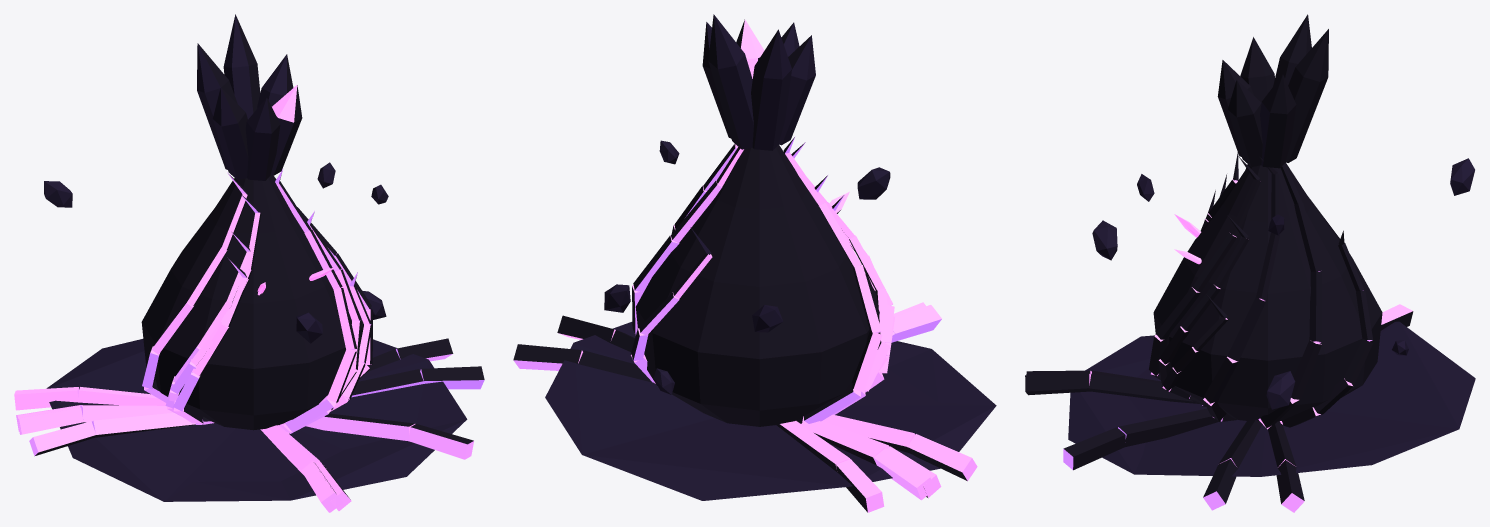
The model's file is fruto-sombra.glb.
The picture shows the model from 3 angles, left to right: view 1: azimuth 30°, elevation 25°; view 2: azimuth 150°, elevation 25°; view 3: azimuth 270°, elevation 25°; orthographic projection. The views are drawn at different scales.
Parts seen in each view (by area): view 1: Fruit_Body; view 2: Fruit_Body; view 3: Fruit_Body.
Part boxes in pixels (x1,y1,x2,y2): Fruit_Body: (14, 14, 484, 512); Fruit_Body: (513, 14, 996, 512); Fruit_Body: (1025, 14, 1475, 512).
Bounding box in the file's own units: 1.96 × 1.75 × 1.81.
